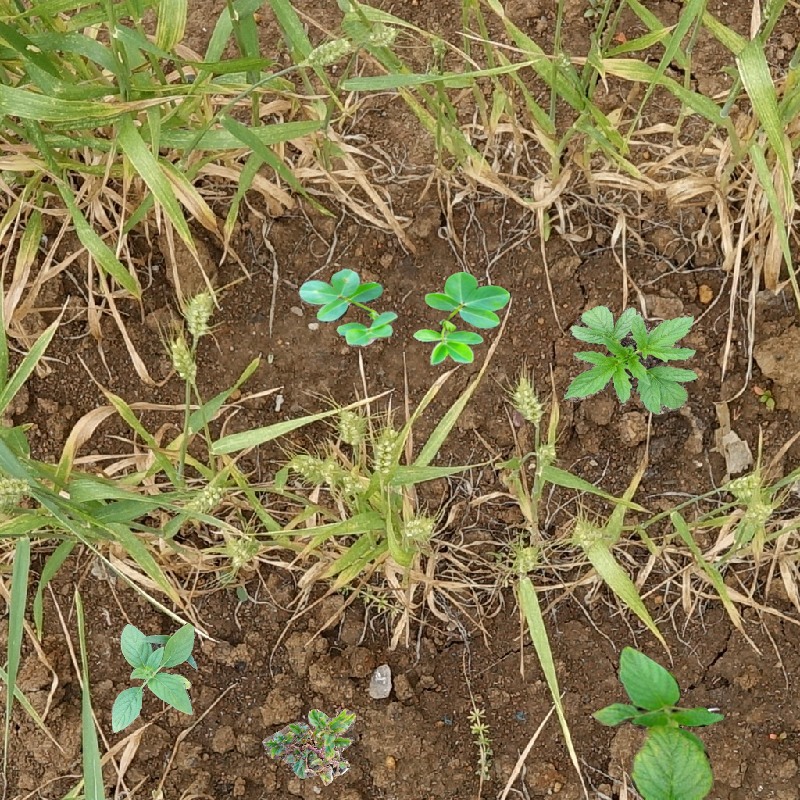spikelet: (287, 451, 342, 489), (510, 370, 546, 425), (301, 35, 353, 69), (182, 288, 215, 338), (167, 336, 199, 385), (571, 513, 607, 556), (370, 425, 400, 476), (184, 479, 227, 514), (334, 405, 367, 446), (398, 512, 437, 546), (1, 472, 34, 509), (508, 540, 542, 575), (725, 469, 763, 499), (228, 535, 260, 568), (365, 20, 399, 49)
weed: (591, 646, 724, 800), (564, 305, 698, 415), (105, 618, 203, 738), (259, 707, 359, 800), (413, 272, 511, 366), (299, 268, 398, 347)
